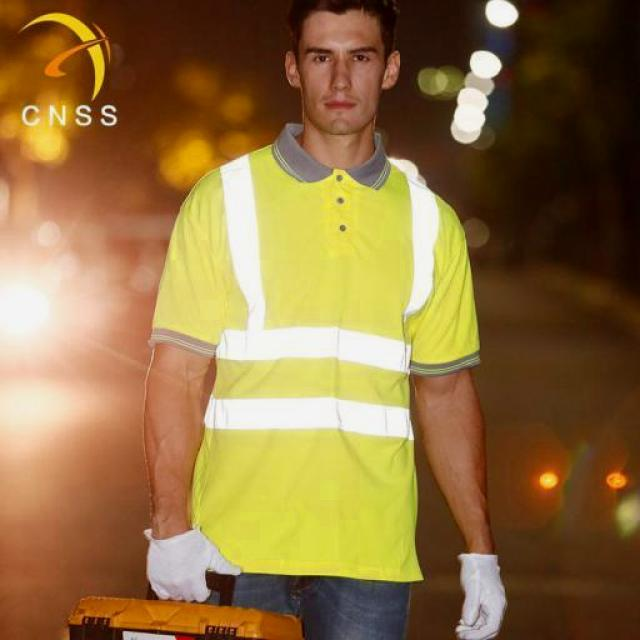face_nomask: (298, 36, 384, 130)
hand_glove: (142, 517, 244, 607), (447, 549, 513, 640)
head_nohelmet: (275, 0, 405, 45)
person: (126, 0, 512, 640)
vest: (144, 137, 482, 584)
